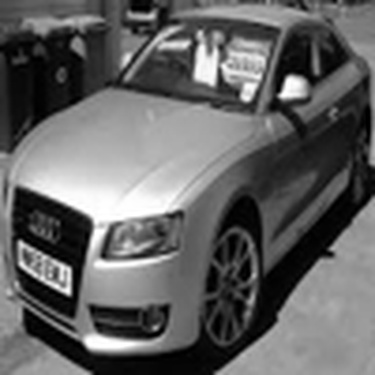car: (9, 4, 370, 371), (15, 9, 76, 40), (118, 1, 166, 32), (66, 10, 111, 39)
